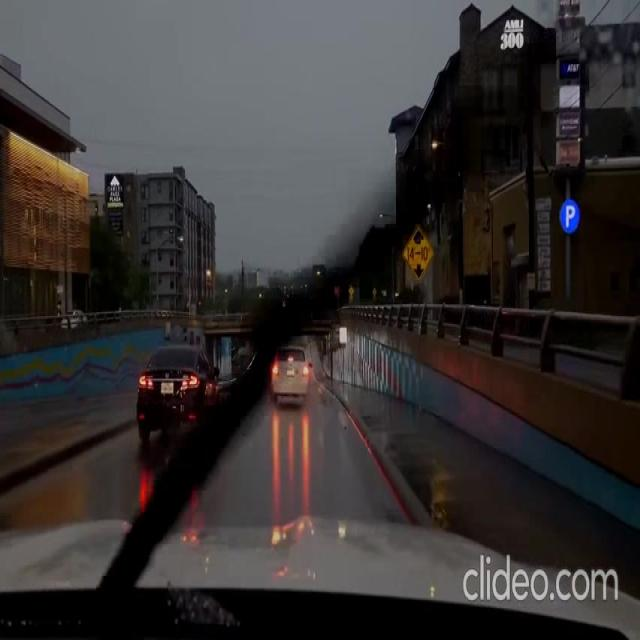Car: (136, 344, 217, 442), (269, 342, 310, 406)
